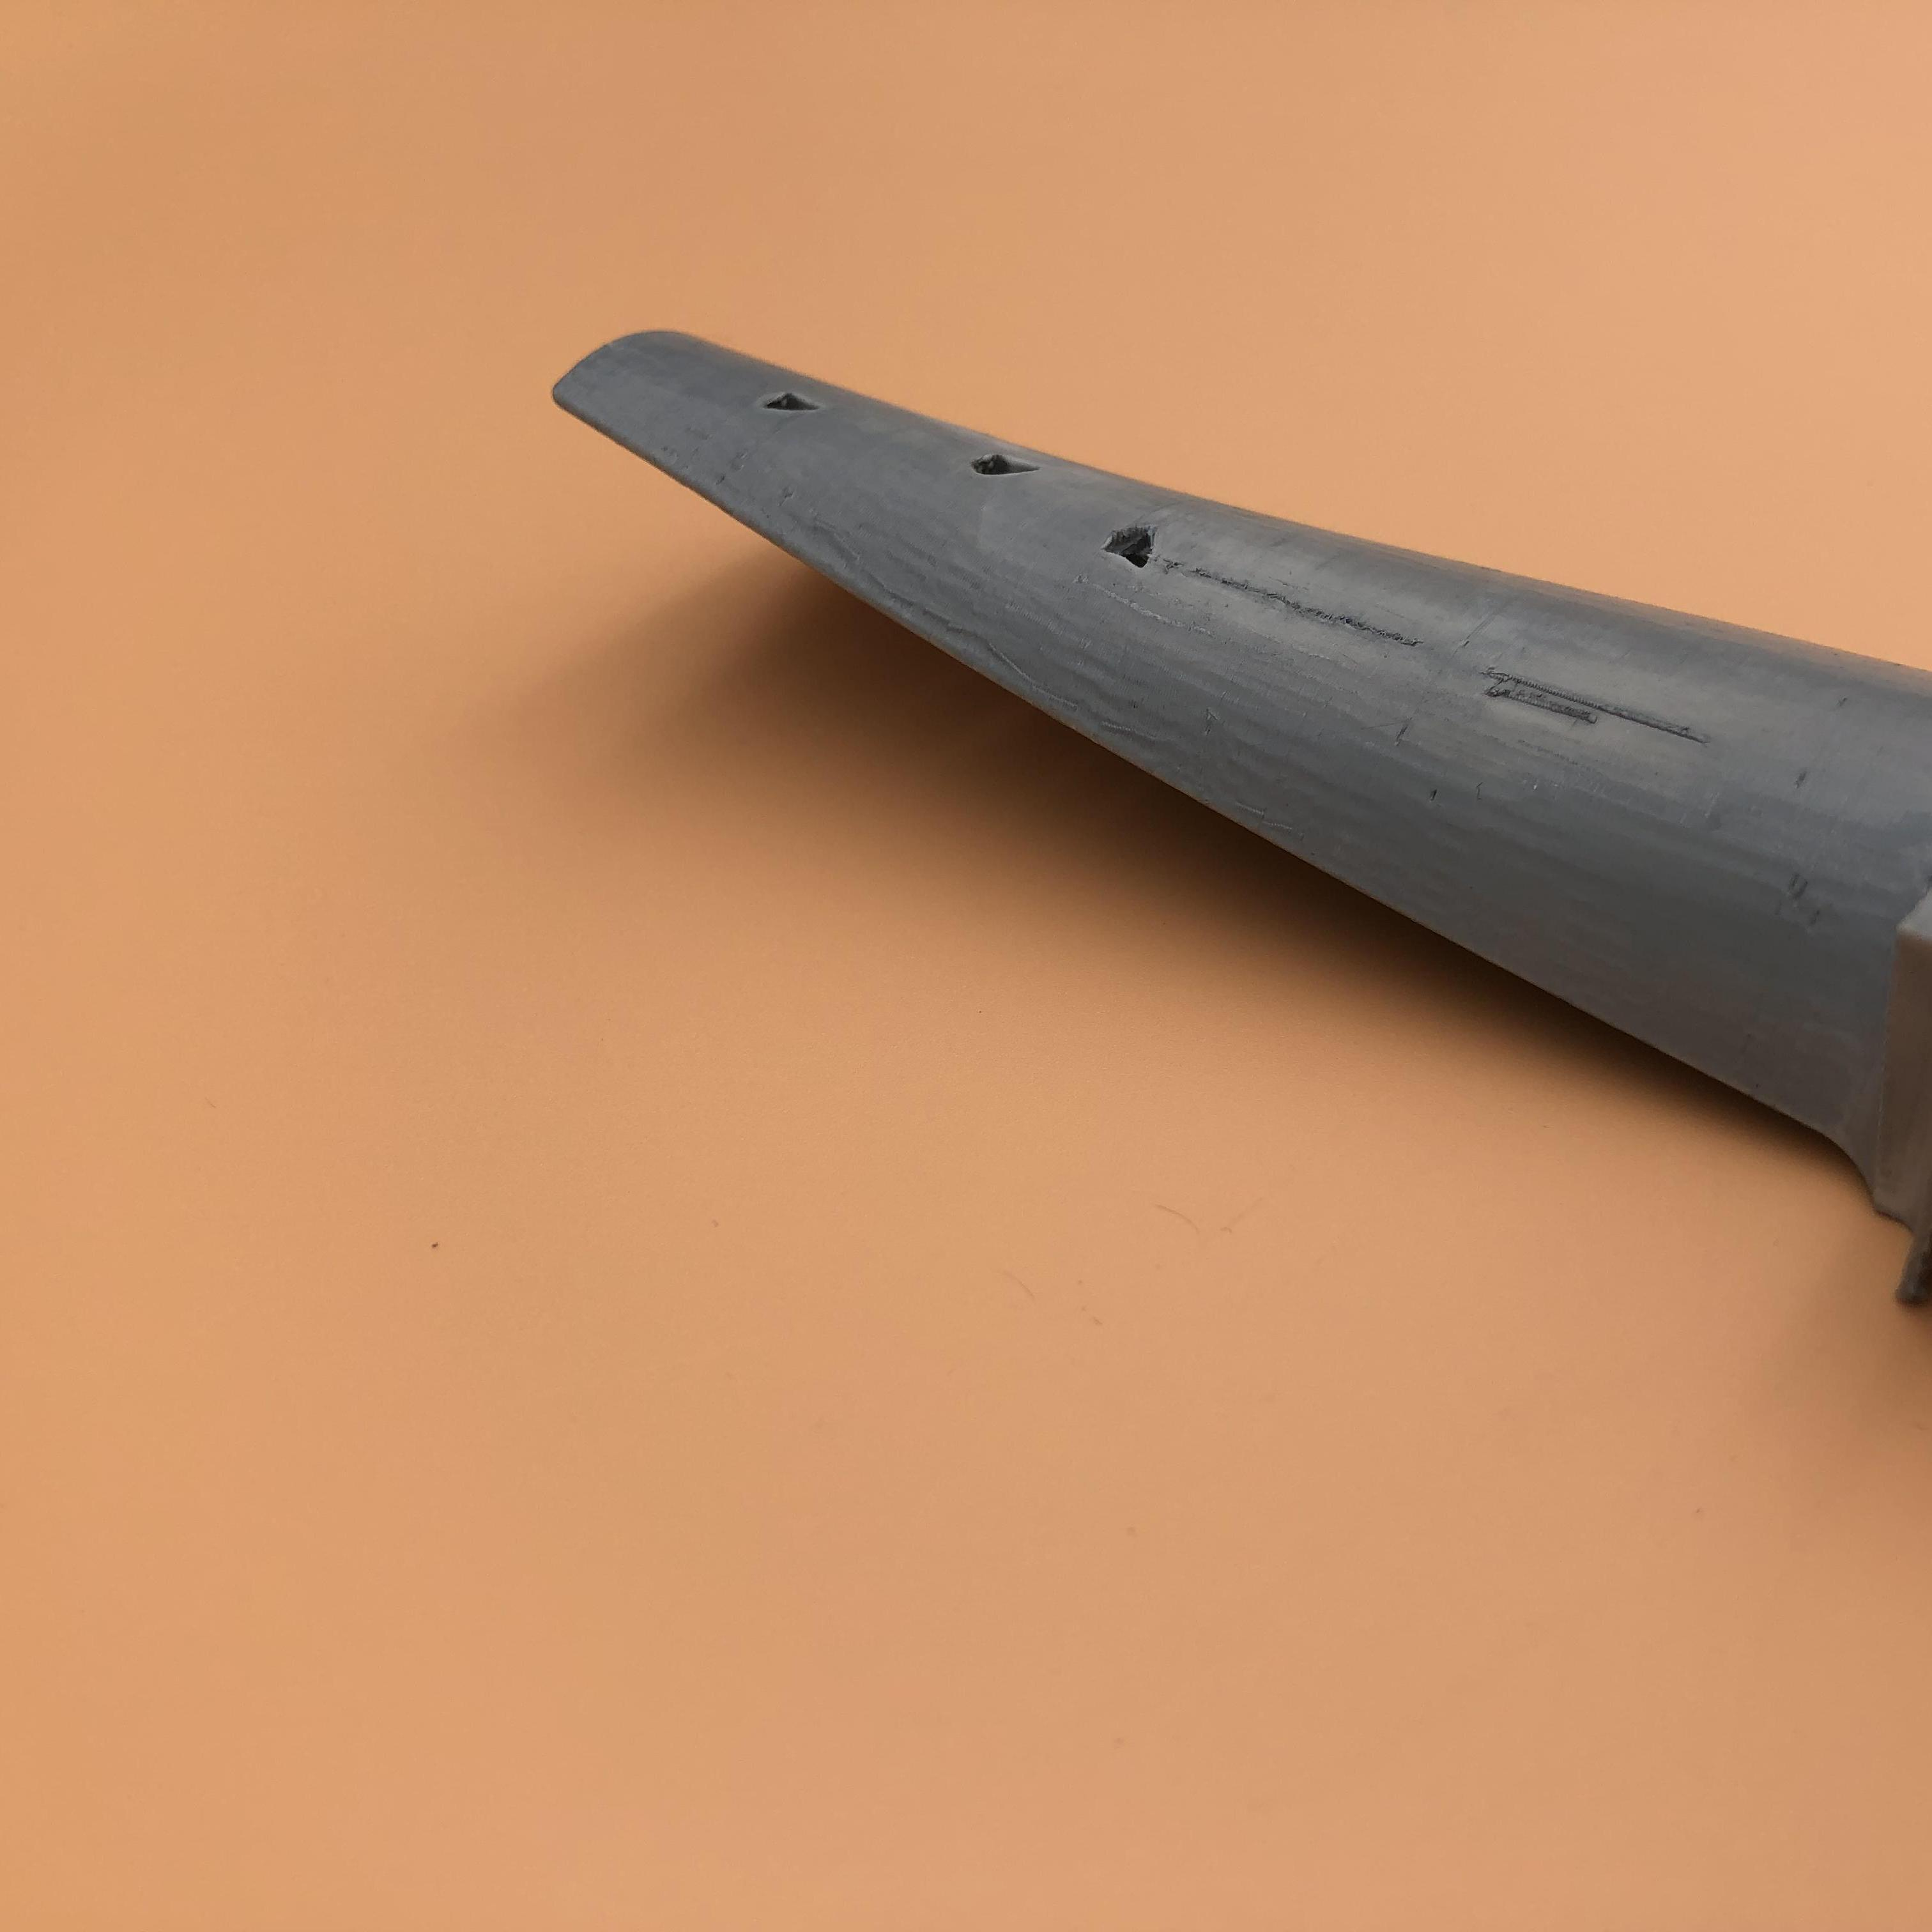breakdown: (973, 442, 1173, 575), (766, 393, 833, 421)
